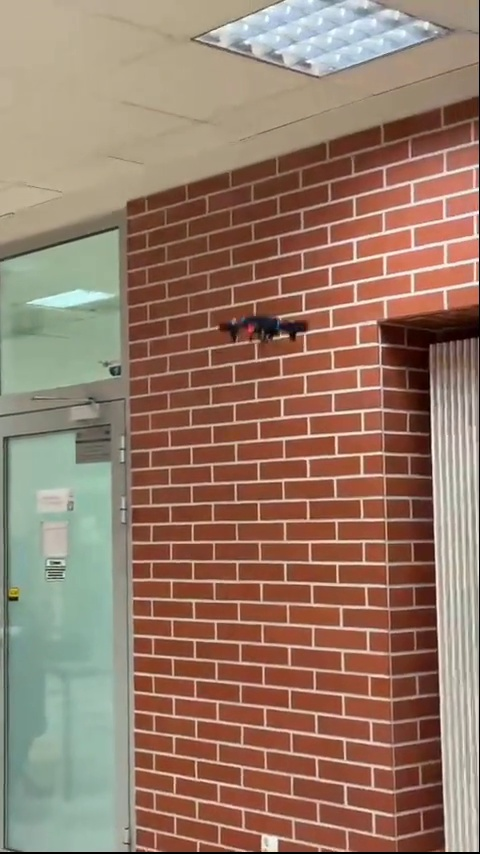drone: (222, 314, 316, 348)
